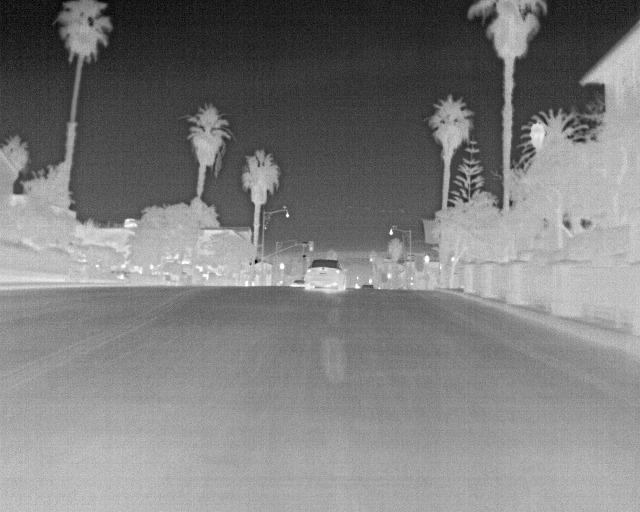car: (303, 258, 348, 295)
